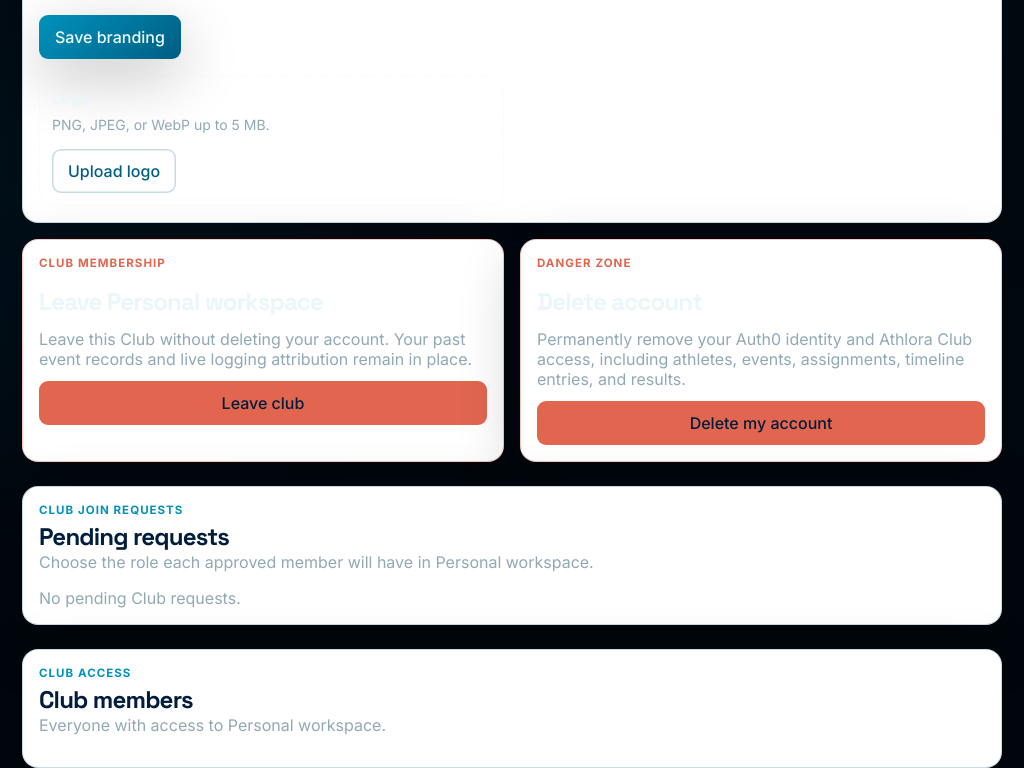
Scenario: AuthPage › keeps the account available with an announced error when deletion fails
(page scrolled)
Click the button "Delete my account" at [761, 423], box x1=537 y1=401 x2=985 y2=445
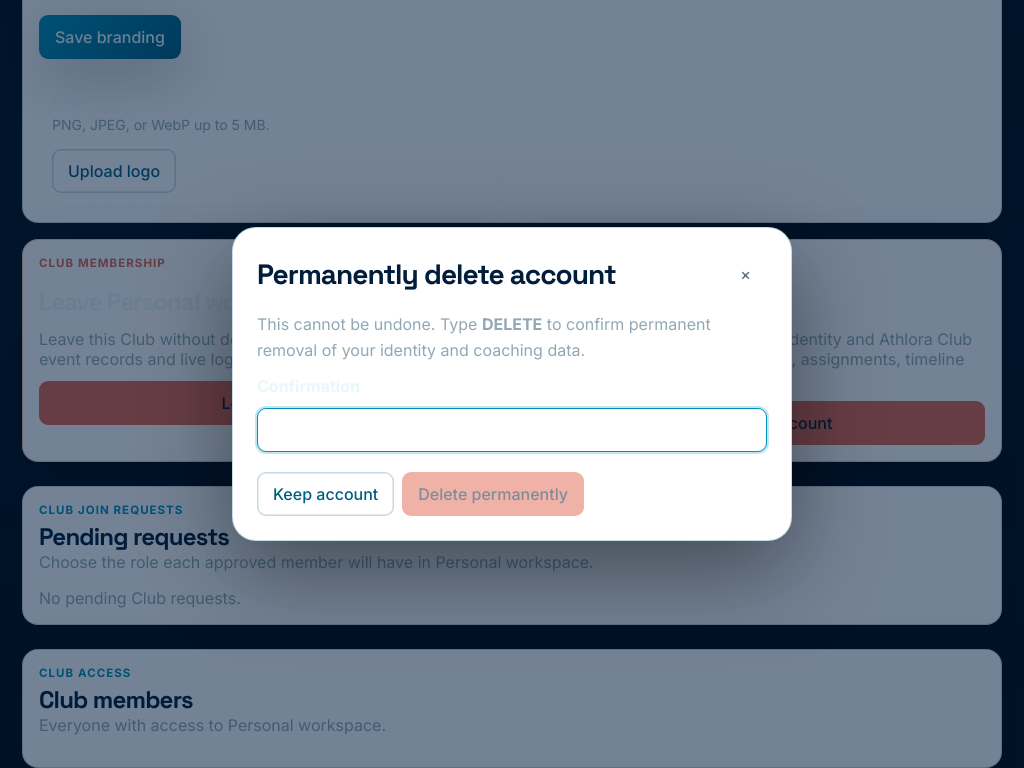
Type "DELETE" into the field labelled "Confirmation" at [512, 430], box x1=257 y1=408 x2=767 y2=452
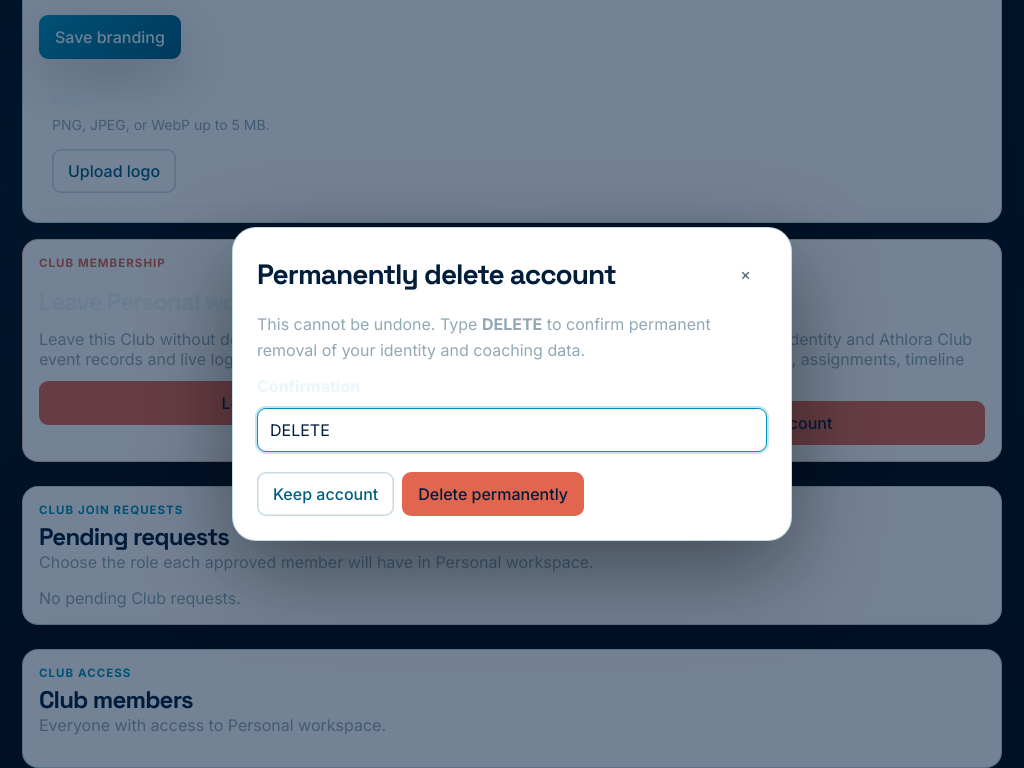
Click the button "Delete permanently" at [493, 494], box x1=402 y1=472 x2=584 y2=516
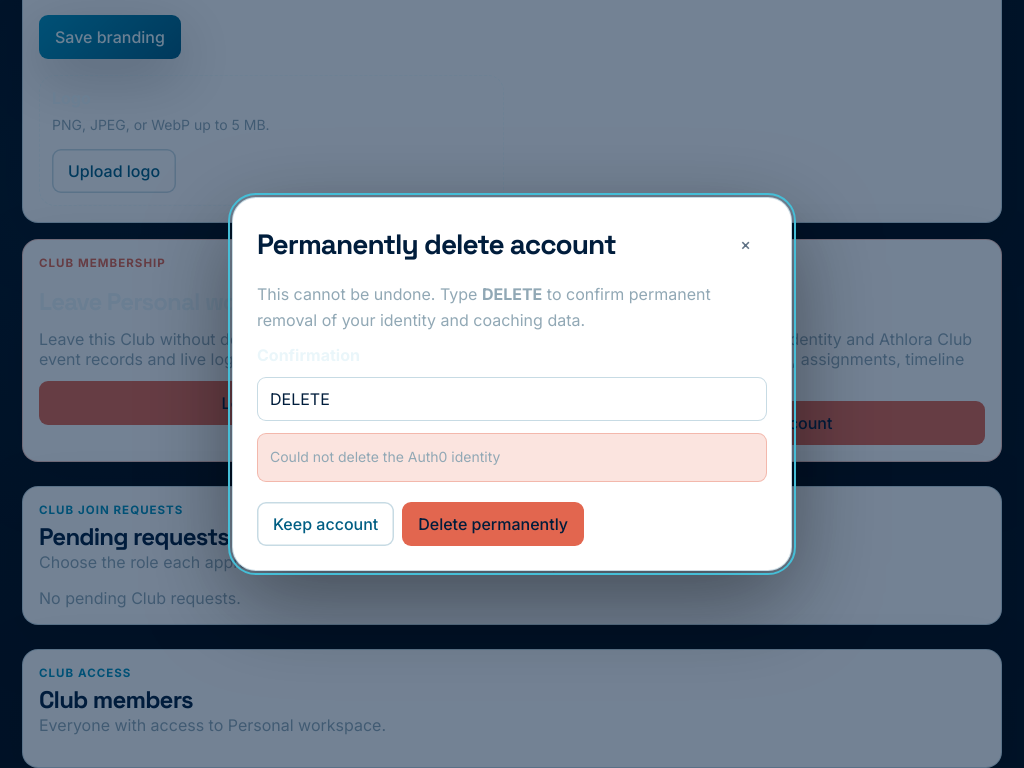
Expected: the dialog "Permanently delete account" is shown, x1=232 y1=197 x2=792 y2=571
Expected: the message reads "Could not delete the Auth0 identity", x1=270 y1=448 x2=500 y2=465
